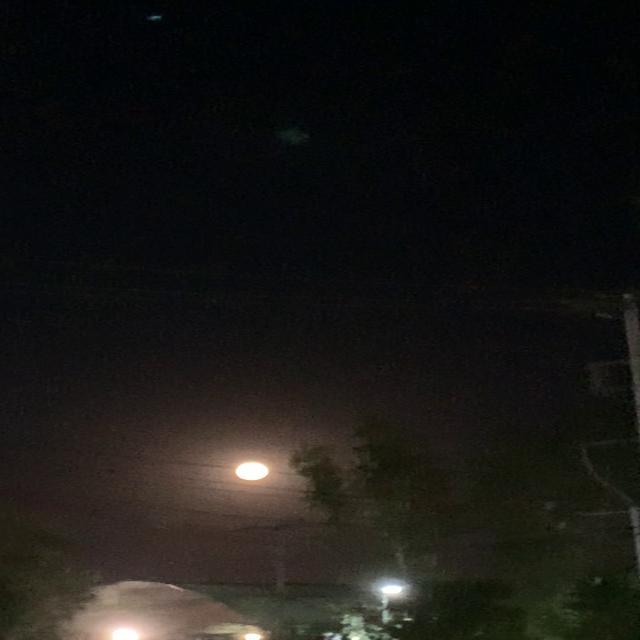moon: (236, 447, 288, 473)
